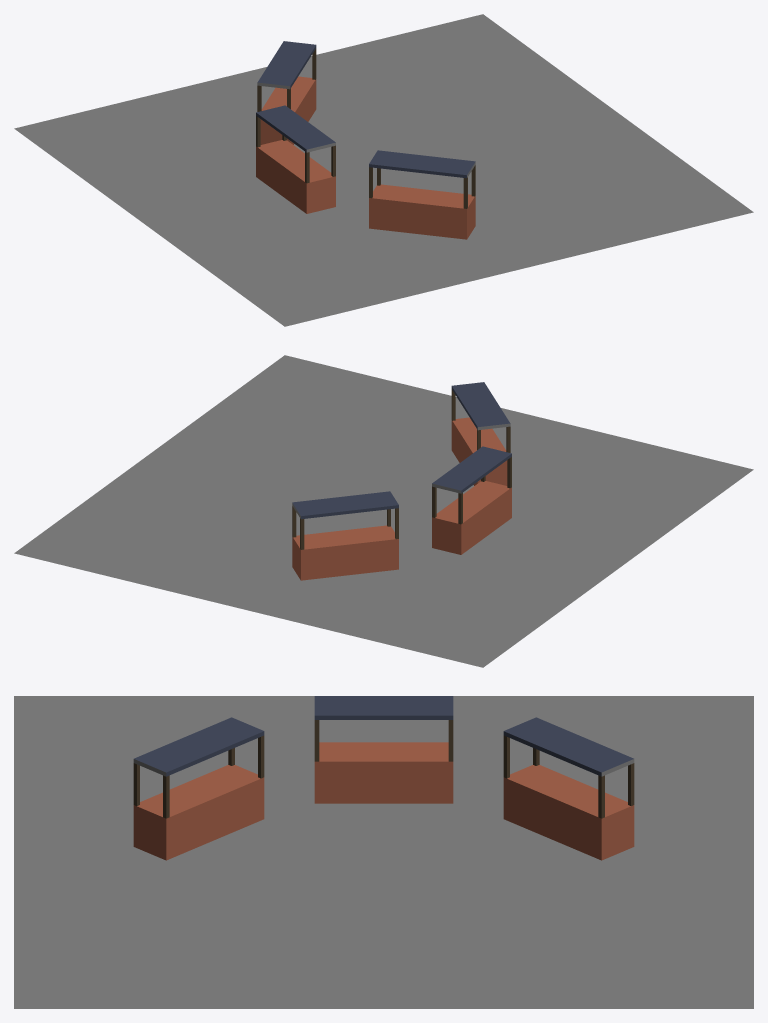
Rendered from map.gltf.
The picture shows the model from 3 angles, top to bottom: view 1: azimuth 30°, elevation 25°; view 2: azimuth 150°, elevation 25°; view 3: azimuth 270°, elevation 25°; orthographic projection. The views are drawn at different scales.
Visible parts, largest first — view 1: Cube; view 2: Cube; view 3: Cube.
Part boxes in pixels (x1=…): Cube: x1=14, y1=14, x2=753, y2=326; Cube: x1=14, y1=355, x2=753, y2=667; Cube: x1=14, y1=696, x2=753, y2=1008.
Size of the model in its own units: 16 by 2.1 by 16.
